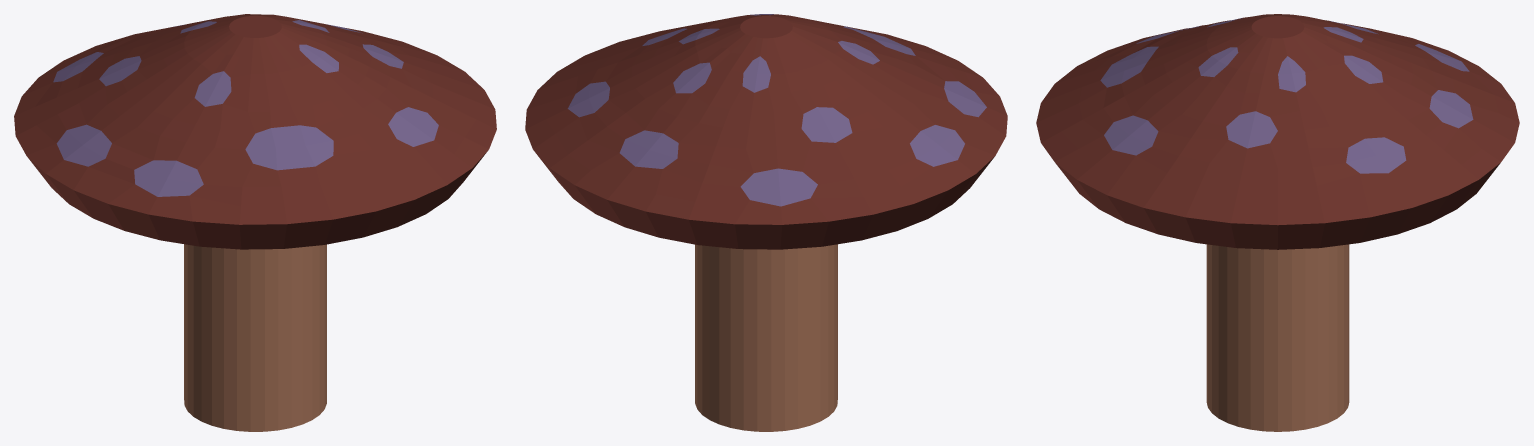
File: mushroom_3_garden.fbx
3 views of the same model, side by side, from view 1: azimuth 30°, elevation 25°; view 2: azimuth 150°, elevation 25°; view 3: azimuth 270°, elevation 25° (orthographic).
Parts seen in each view (by area): view 1: mushroom_3_garden, Cylinder.049, Cylinder.008; view 2: mushroom_3_garden, Cylinder.049, Cylinder.008; view 3: mushroom_3_garden, Cylinder.049, Cylinder.008.
Part boxes in pixels (x1,y1,x2,y2): mushroom_3_garden: (14, 14, 496, 249); Cylinder.049: (184, 244, 326, 431); Cylinder.008: (53, 20, 438, 196); mushroom_3_garden: (525, 14, 1007, 249); Cylinder.049: (695, 244, 837, 431); Cylinder.008: (567, 14, 986, 206); mushroom_3_garden: (1036, 14, 1519, 249); Cylinder.049: (1206, 244, 1349, 431); Cylinder.008: (1100, 18, 1473, 173).
Size of the model in its own units: 33.4 by 28.55 by 33.4.
